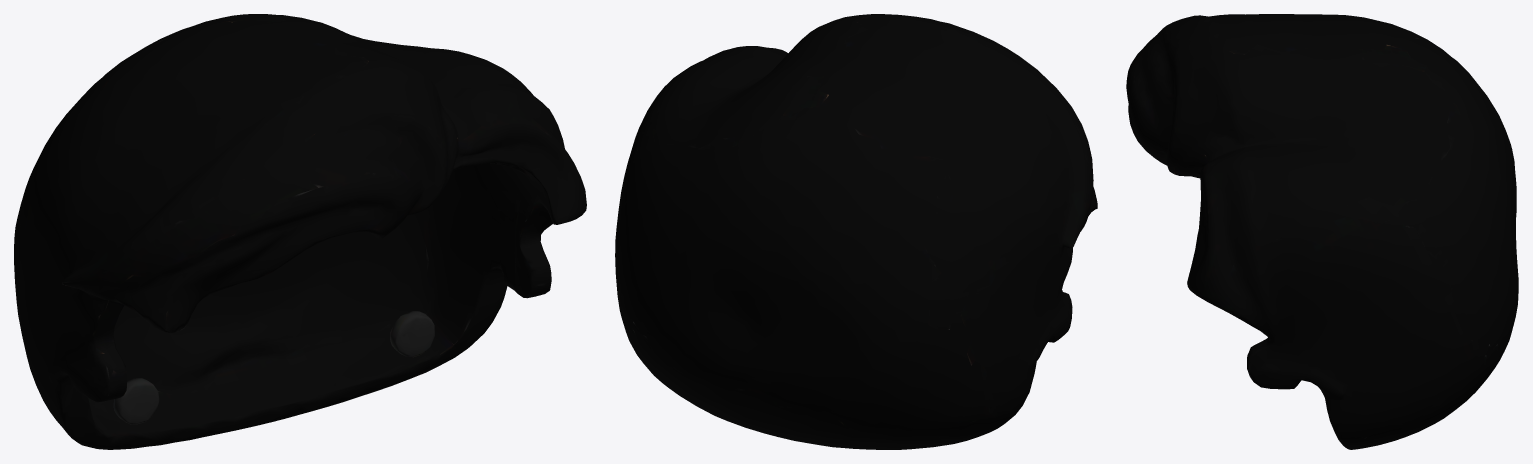
Rendered from Hair03.glb.
3 views of the same model, side by side, from view 1: azimuth 30°, elevation 25°; view 2: azimuth 150°, elevation 25°; view 3: azimuth 270°, elevation 25° (orthographic). The views are drawn at different scales.
Parts seen in each view (by area): view 1: geometry_0.002; view 2: geometry_0.002; view 3: geometry_0.002.
Boxes of the visible parts, x1,y1,x2,y2 form: geometry_0.002: (14, 14, 586, 449); geometry_0.002: (615, 14, 1097, 449); geometry_0.002: (1126, 14, 1518, 449).
Size of the model in its own units: 0.697 by 0.5676 by 0.5598.
Materials: 1 (1 with a texture image).
